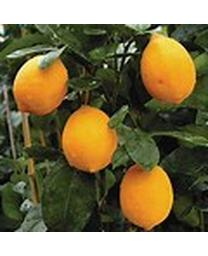lemon: (141, 35, 196, 103), (63, 106, 117, 171), (121, 163, 173, 229), (14, 55, 68, 116)
